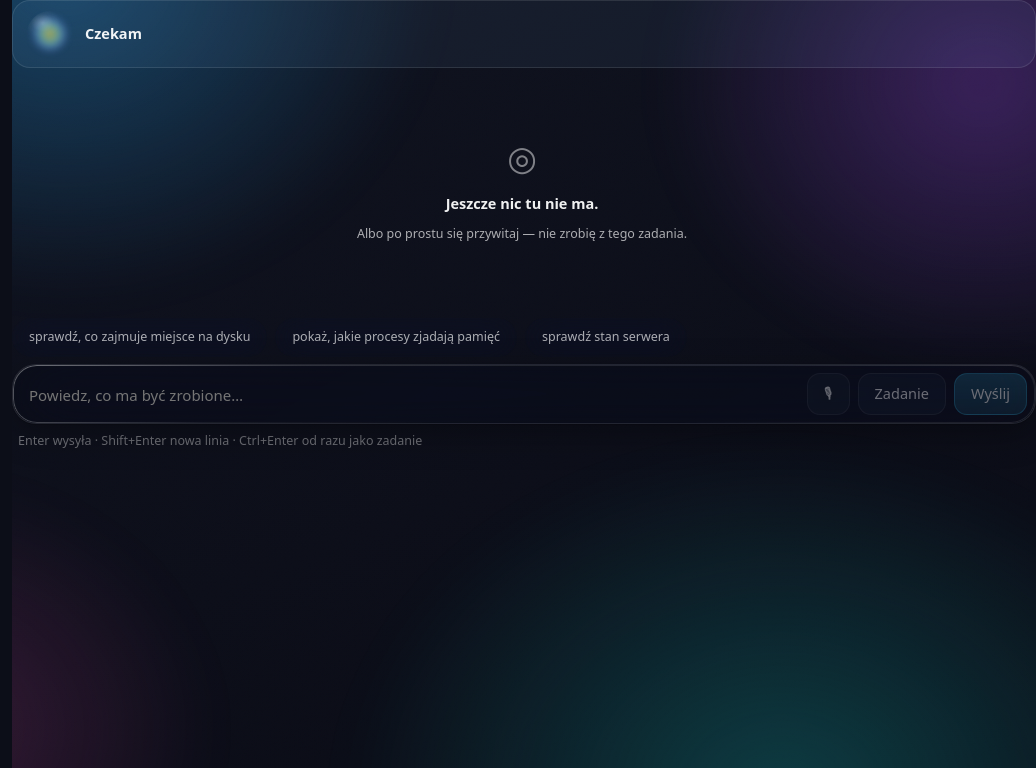
Test: composer › puts an answer in the thread without creating a task
Type "2+2" into the text box labelled "Powiedz, co ma być zrobione…". click: (410, 395)
box: [21,374,799,415]
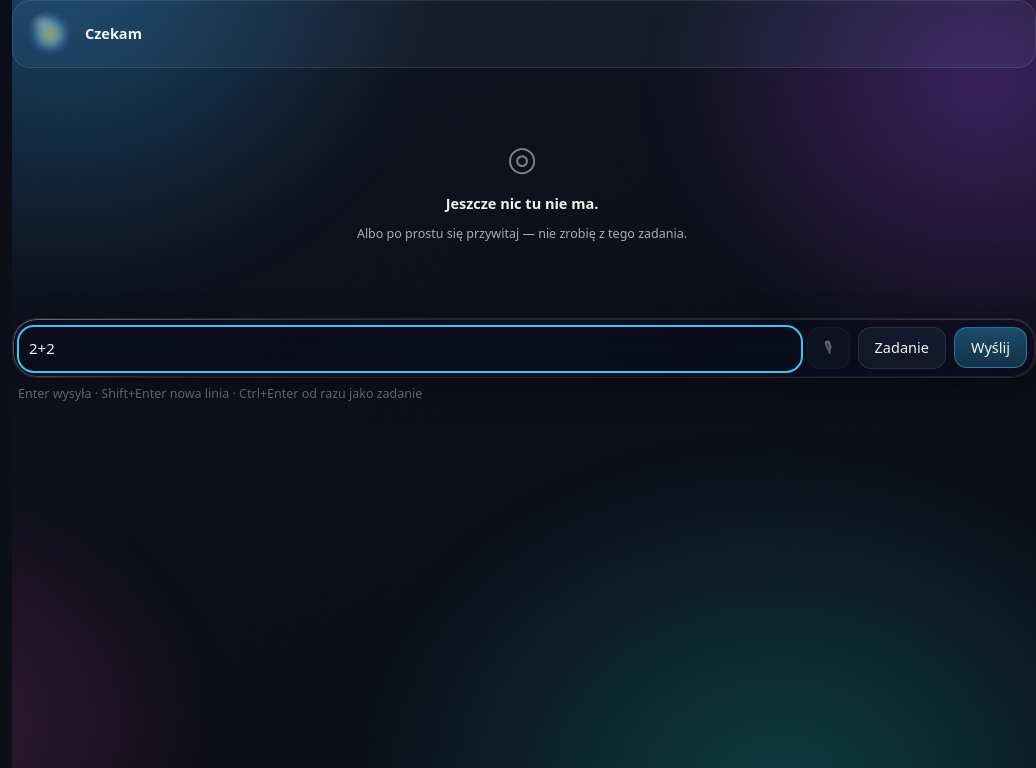
Click the button "Wyślij". click: (990, 347)
box: [954,326,1027,368]
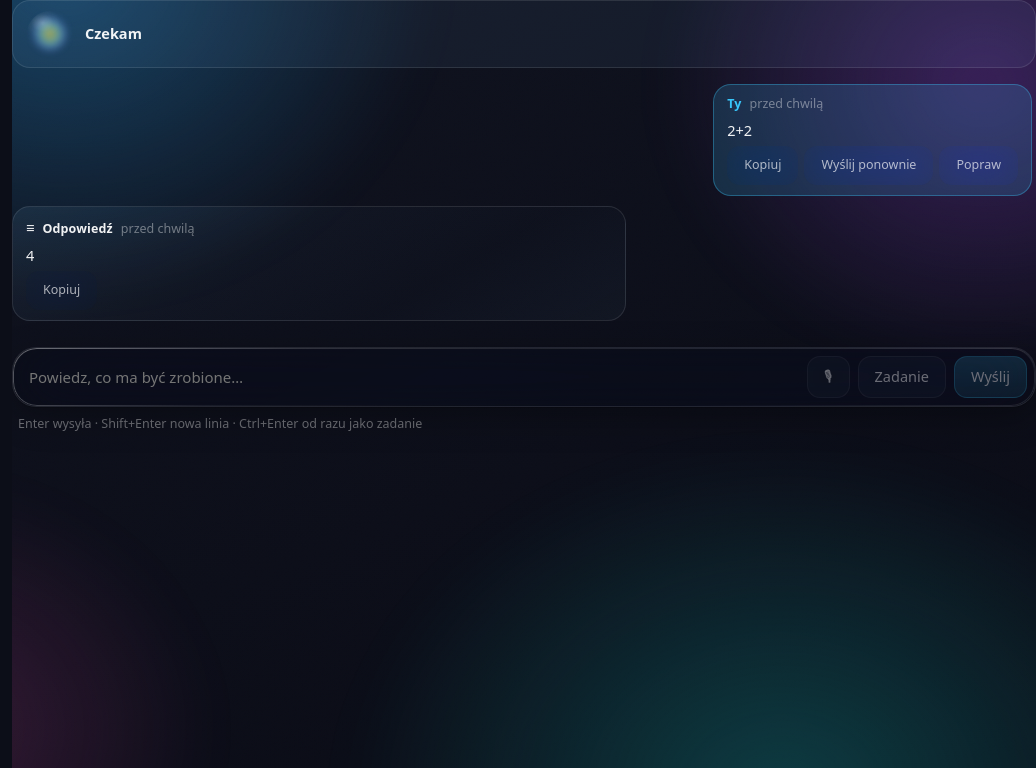
Result: the text "4" is shown at [26,245,34,265]
